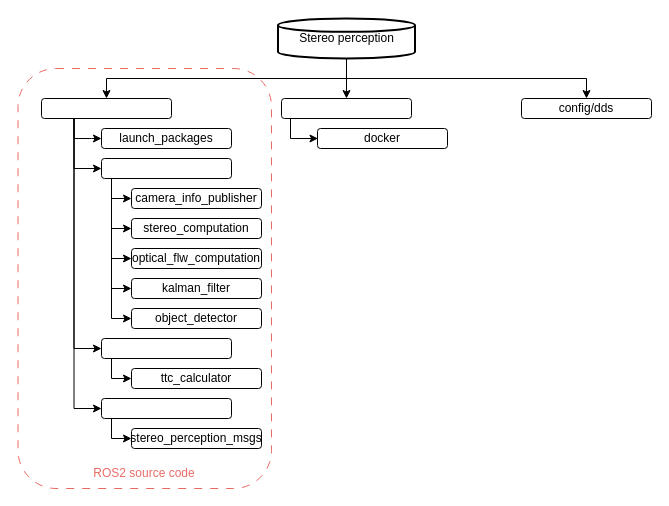
Some shapes in this 669 by 506 pixel diagram are drawn without their labels. The shapes that lost their labels are listed below. From the top down, each one's centre as x and y in pixels, then its label:
At (106,108): "src".
At (346,108): "scripts".
At (166,168): "perception_pipeline".
At (166,348): "criticallity_pipeline".
At (166,408): "utils".
